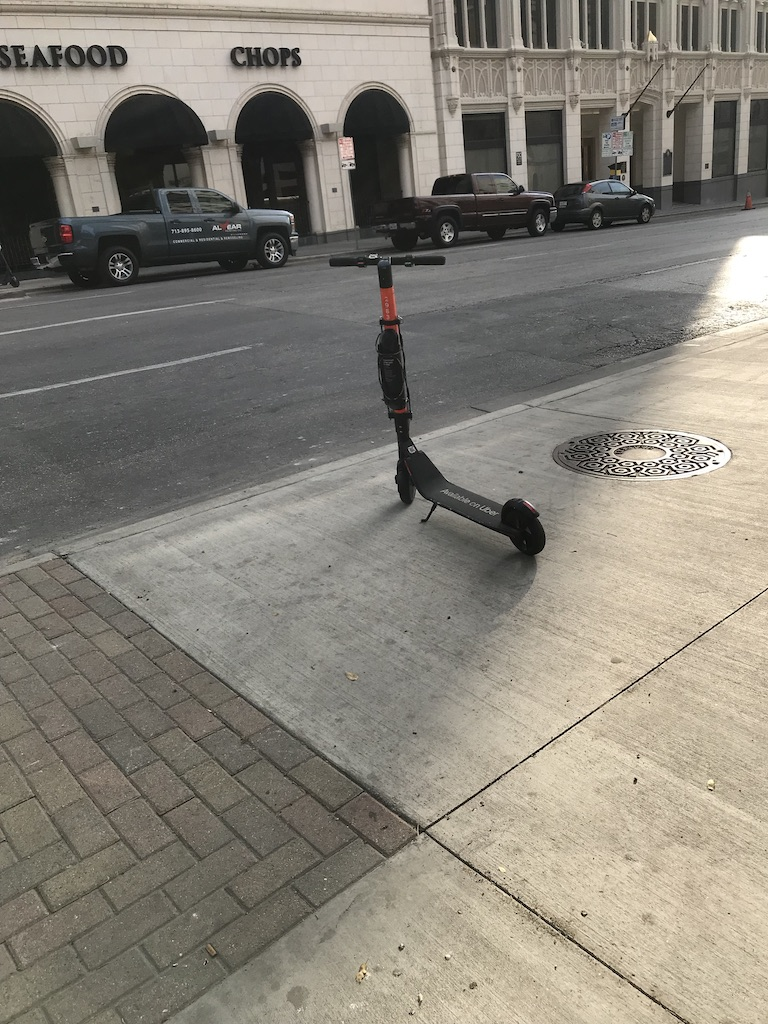scooter: (329, 250, 549, 557)
